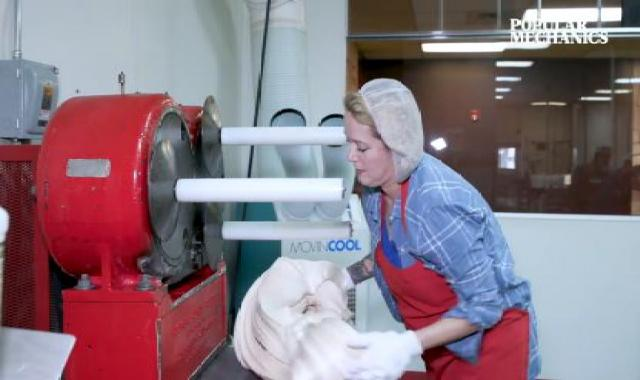hairnet: (358, 76, 430, 180)
